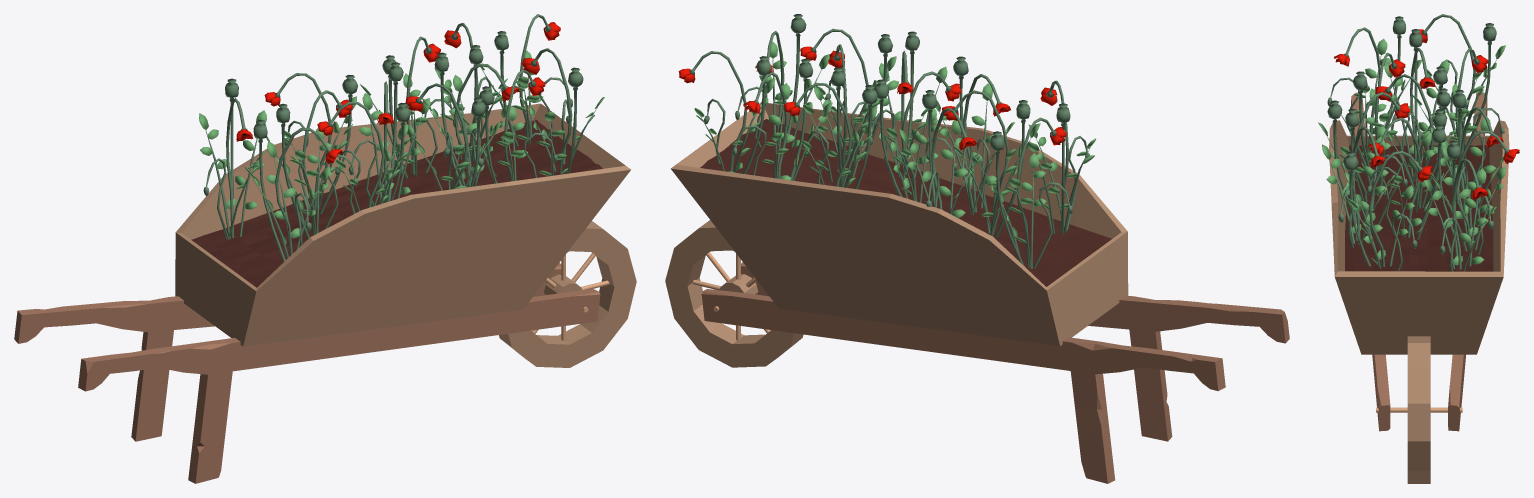
The model's file is mod_bg_Brouette.fbx.
3 renders of one model, left to right at view 1: azimuth 30°, elevation 25°; view 2: azimuth 150°, elevation 25°; view 3: azimuth 270°, elevation 25°, orthographic. The views are drawn at different scales.
Visible parts, largest first — view 1: Brouette; view 2: Brouette; view 3: Brouette.
Part boxes in pixels (box(x1,y1,x2,y2)): Brouette: box(14, 14, 636, 483); Brouette: box(665, 14, 1289, 483); Brouette: box(1318, 14, 1519, 483).
Bounding box in the file's own units: 199 × 108 × 62.32.
